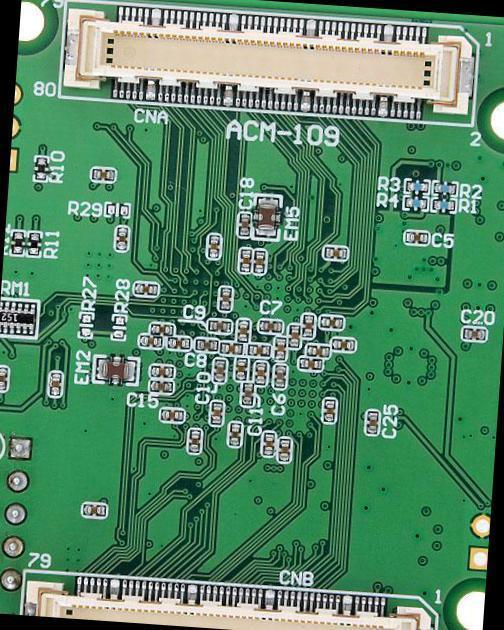Capacitor: (185, 425, 202, 453), (236, 211, 254, 237), (90, 165, 117, 182), (321, 243, 348, 260), (205, 233, 222, 260), (329, 335, 356, 352), (226, 421, 243, 448), (216, 284, 232, 312), (137, 332, 165, 348), (206, 317, 232, 334), (234, 316, 251, 342), (194, 335, 220, 352), (159, 406, 185, 423), (81, 501, 107, 518), (459, 325, 486, 341), (300, 312, 316, 339), (257, 318, 284, 334), (297, 355, 324, 371), (211, 356, 227, 383), (47, 370, 63, 397), (287, 322, 302, 350), (403, 228, 429, 244), (251, 248, 267, 274), (240, 380, 256, 406), (276, 435, 292, 461), (320, 313, 344, 330), (253, 360, 268, 387), (305, 342, 330, 358), (219, 340, 244, 356), (273, 363, 289, 388), (321, 397, 337, 422), (208, 400, 224, 425), (113, 224, 128, 250), (133, 280, 159, 295), (149, 321, 176, 335), (233, 357, 248, 382), (149, 378, 174, 393), (364, 408, 379, 433), (167, 334, 190, 350), (274, 335, 288, 361), (149, 363, 175, 377), (260, 429, 274, 455), (246, 342, 270, 357), (238, 247, 251, 273), (0, 365, 9, 391)
Connector: (59, 0, 482, 124), (20, 567, 439, 629), (462, 501, 491, 578), (9, 74, 29, 179)
Pads: (102, 200, 133, 219), (76, 309, 94, 338), (109, 312, 127, 340)
Pins: (0, 422, 36, 605)
Resistor: (0, 294, 41, 339), (402, 193, 431, 209), (32, 157, 50, 182), (404, 178, 432, 194), (430, 196, 458, 212), (432, 179, 459, 195), (10, 228, 25, 256), (28, 230, 42, 255)
